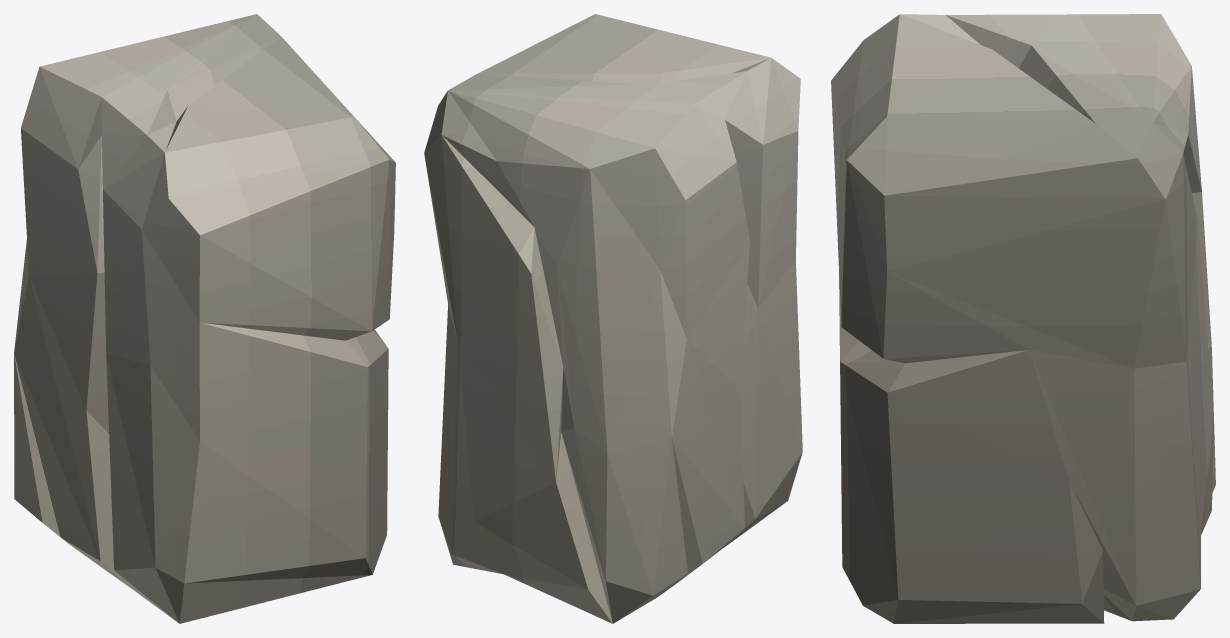
Rendered from 3D_PillarSquare1.fbx.
3 renders of one model, left to right at view 1: azimuth 30°, elevation 25°; view 2: azimuth 150°, elevation 25°; view 3: azimuth 270°, elevation 25°, orthographic. The views are drawn at different scales.
Visible parts, largest first — view 1: PillarSquare1; view 2: PillarSquare1; view 3: PillarSquare1.
Part boxes in pixels (box(x1,y1,x2,y2)): PillarSquare1: box(14, 14, 395, 623); PillarSquare1: box(424, 14, 802, 623); PillarSquare1: box(831, 14, 1215, 623).
Bounding box in the file's own units: 59.22 × 107 × 71.55.
